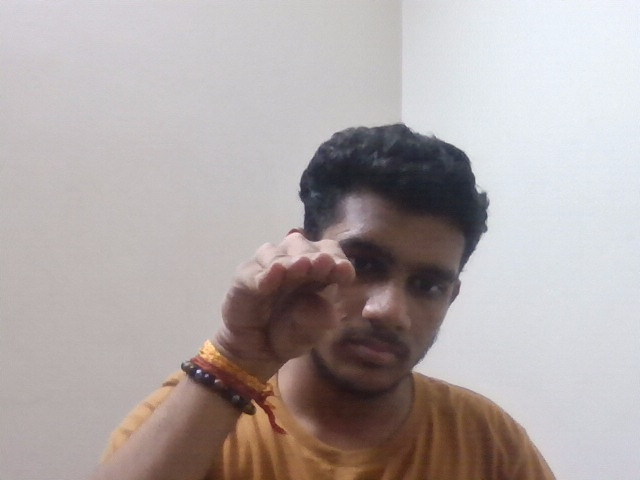no: (201, 227, 370, 358)
